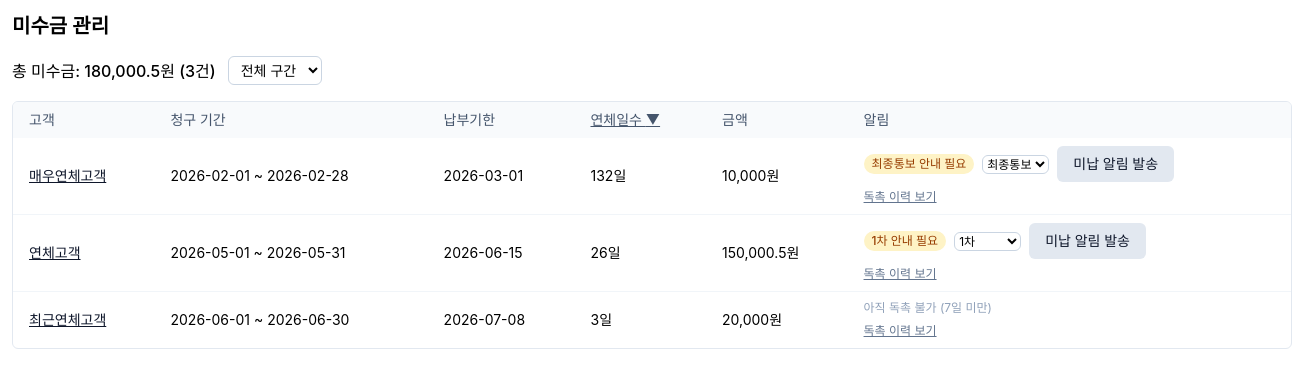
Test case: OverdueInvoicesPage › filters overdue invoices by aging bucket
Expected: the link "매우연체고객" is shown, [29,167,106,184]
Select "90일+" in the dropdown named "연체 구간 필터" at [275, 70], box [228,56,322,85]
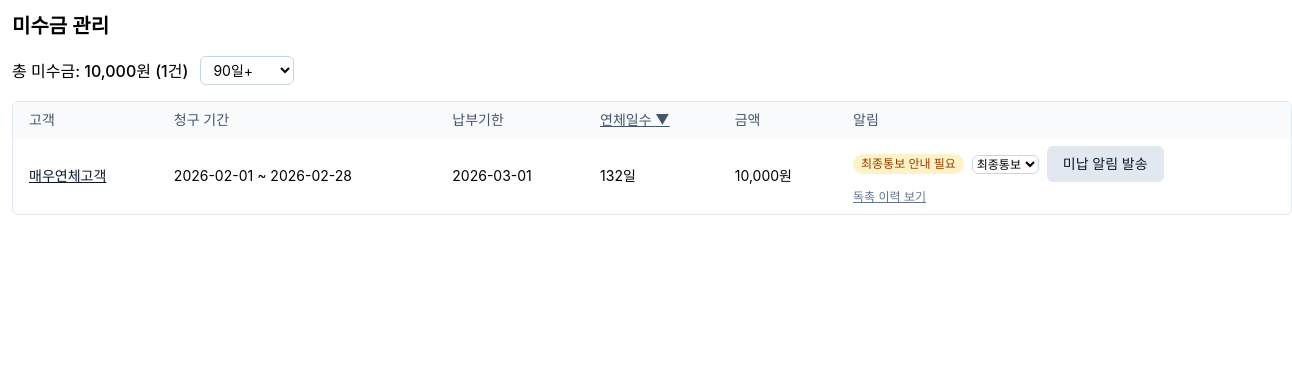
Expected: the link "매우연체고객" is shown, [29,167,106,184]
Result: the link "최근연체고객" is gone
